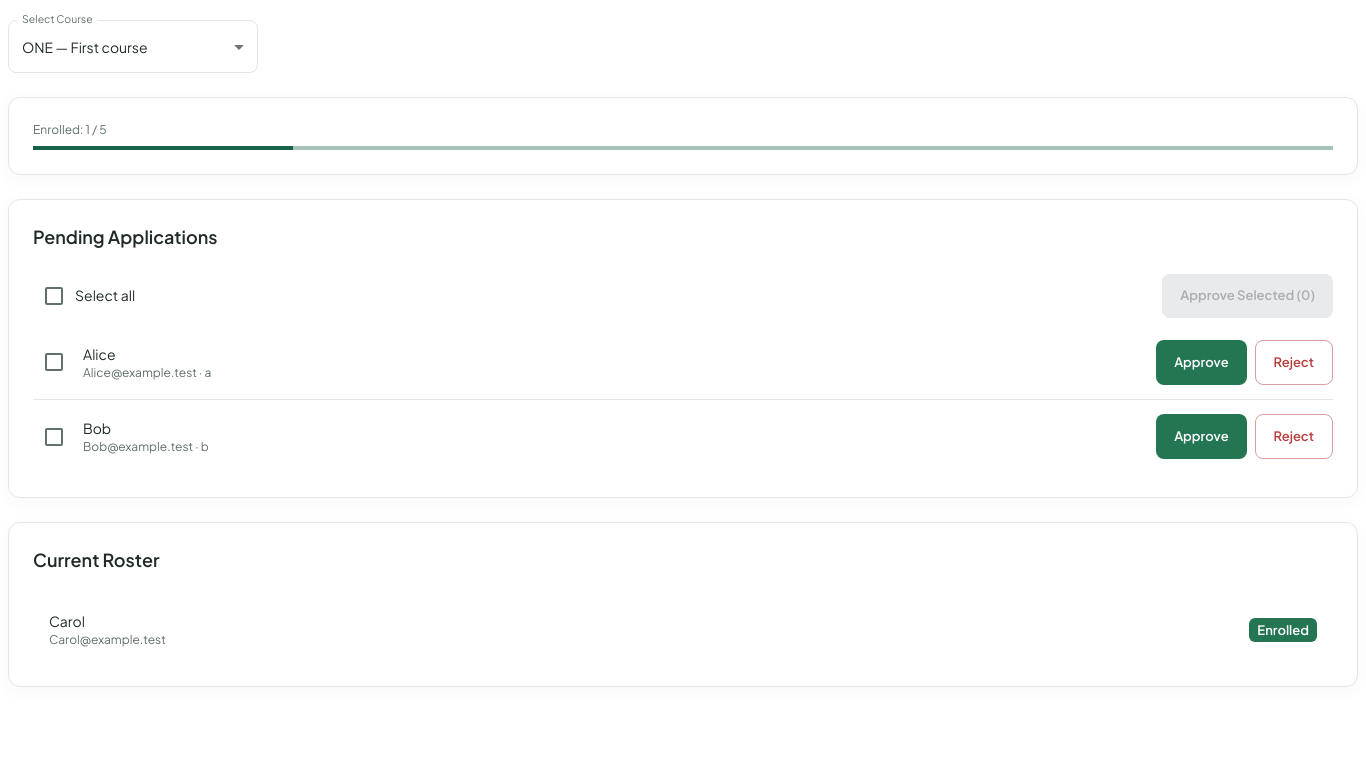
Scenario: reports partial success and retains only pending selections for retry
Expected: the checkbox named "Select Alice" is shown, [42, 350, 66, 374]
Click the 1st checkbox labelled "Select all" at x=89, y=296, box [42, 284, 135, 308]
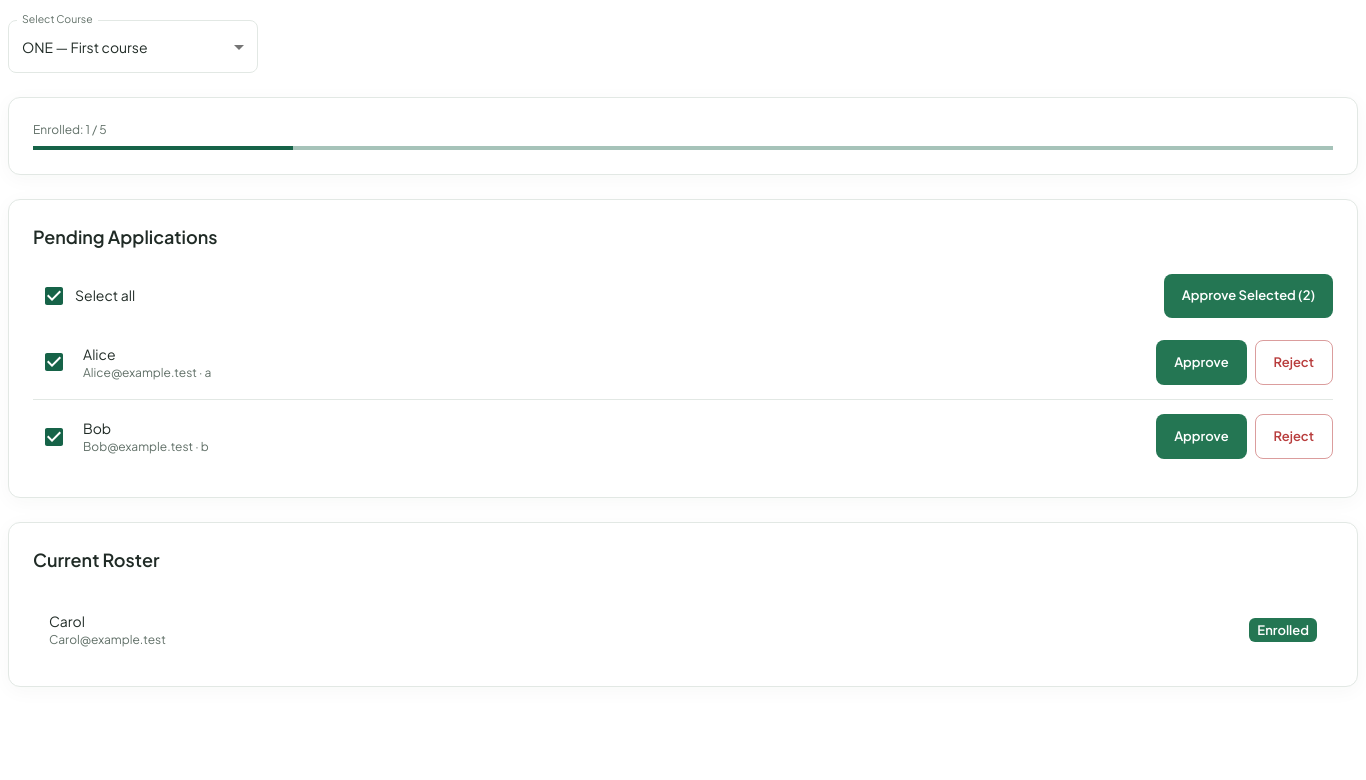
Click the button "Approve Selected (2)" at x=1248, y=296, box [1164, 274, 1333, 318]
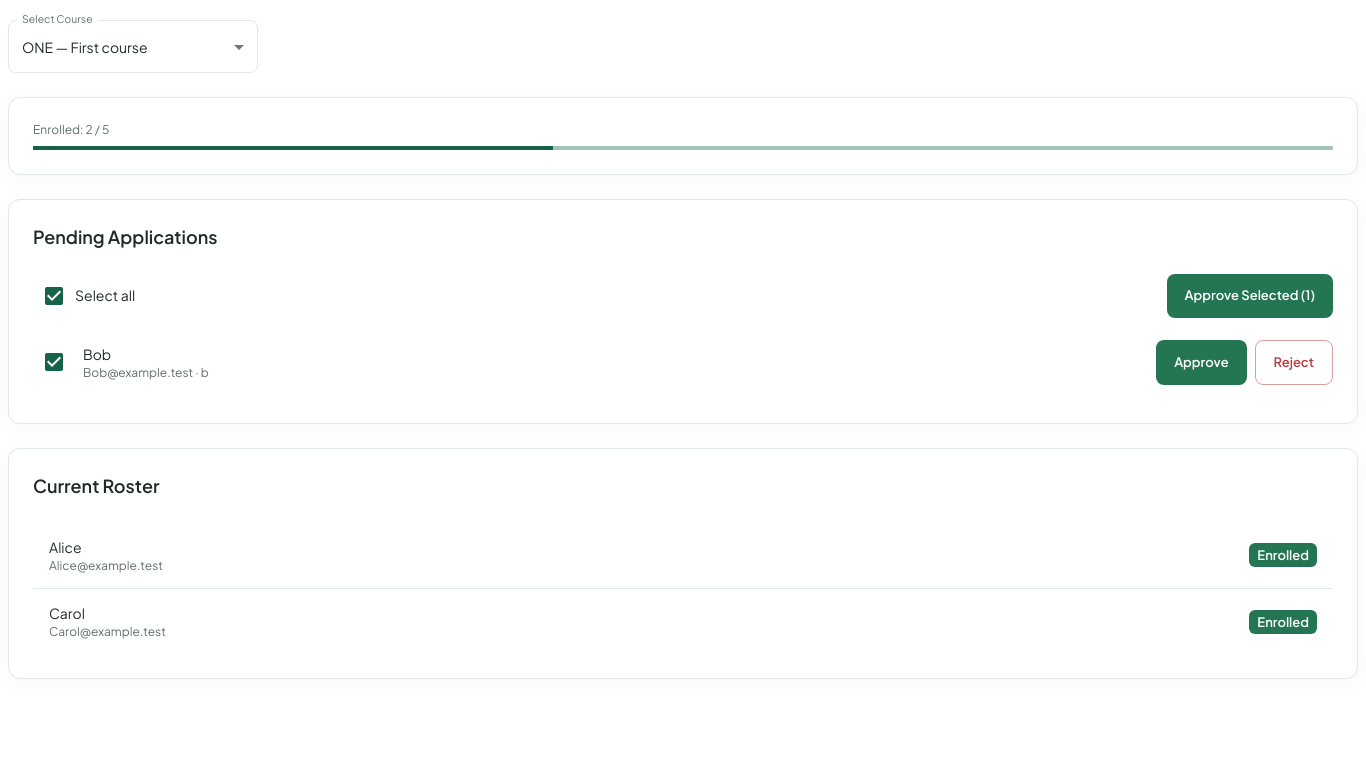
Expected: the checkbox named "Select Bob" is checked, [42, 350, 66, 374]
Expected: the button "Approve Selected (1)" is shown
Click the button "Approve Selected (1)" at x=1250, y=296, box [1166, 274, 1333, 318]
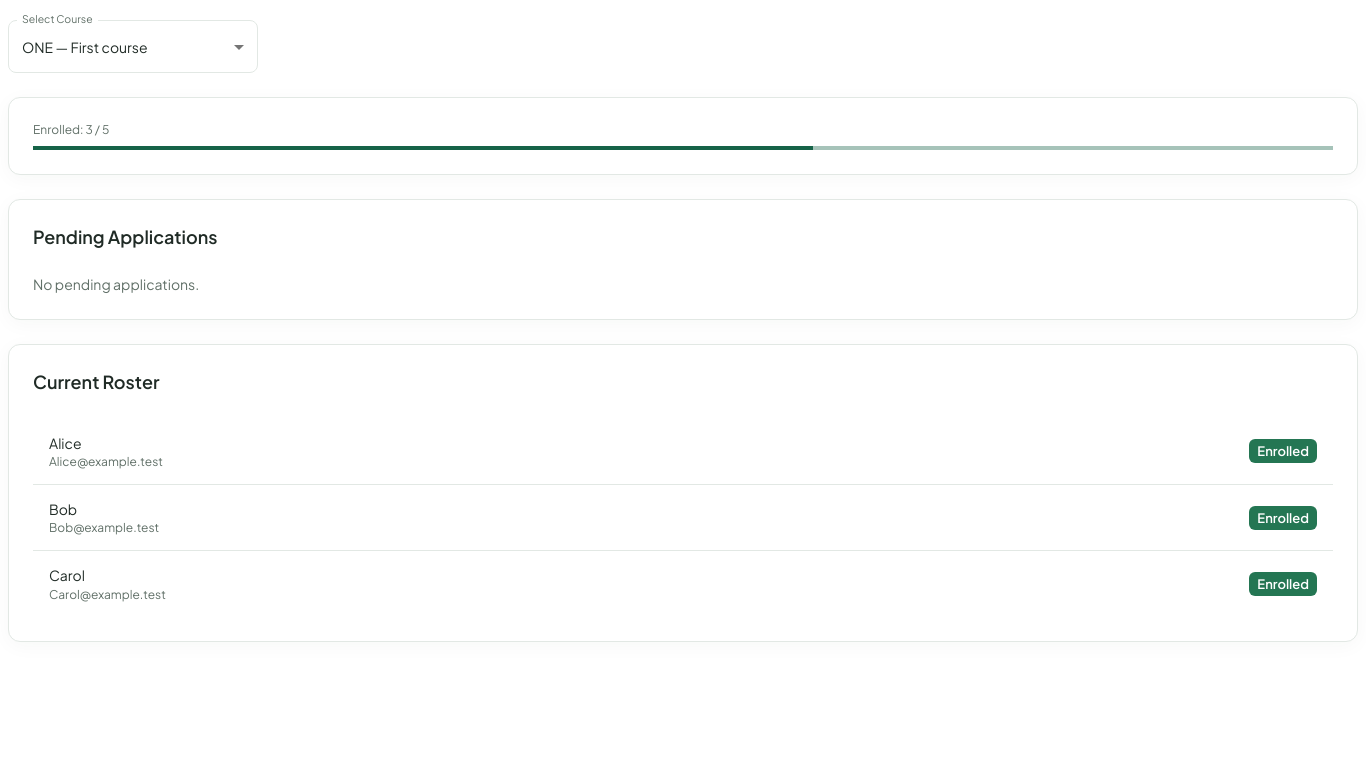
Expected: the text "No pending applications." is shown, [33, 275, 199, 293]
